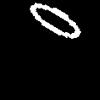chain: (30, 3, 80, 38)
